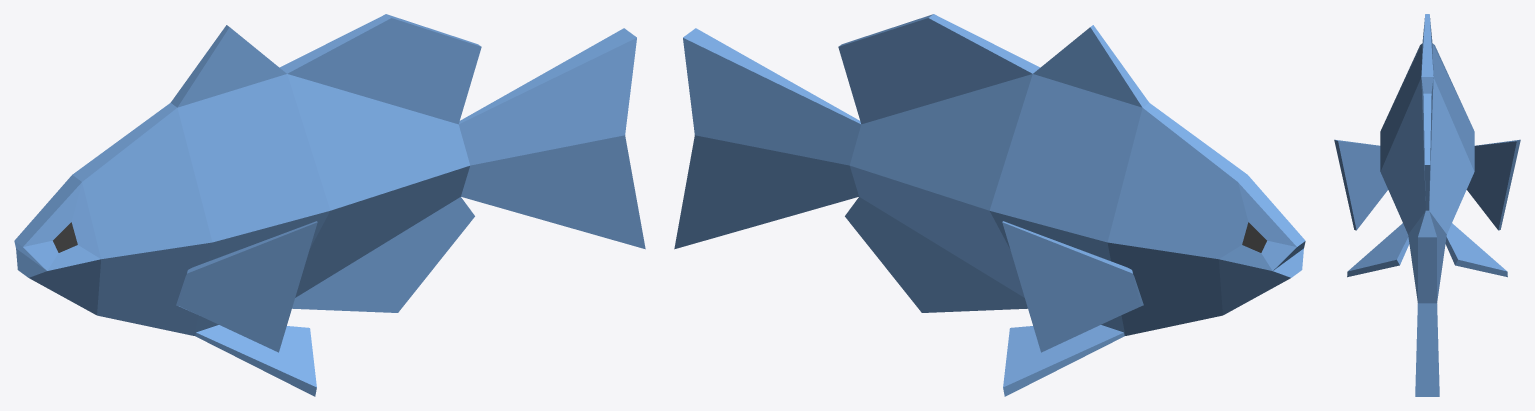
File: fish-small_01.fbx
3 views of the same model, side by side, from view 1: azimuth 30°, elevation 25°; view 2: azimuth 150°, elevation 25°; view 3: azimuth 270°, elevation 25° (orthographic). The views are drawn at different scales.
Parts seen in each view (by area): view 1: fish-small_01; view 2: fish-small_01; view 3: fish-small_01.
Boxes of the visible parts, <box> form: fish-small_01: <box>14,14,645,396</box>; fish-small_01: <box>674,14,1305,396</box>; fish-small_01: <box>1334,14,1520,396</box>.
Bounding box in the file's own units: 95.39 × 49.99 × 33.64.
